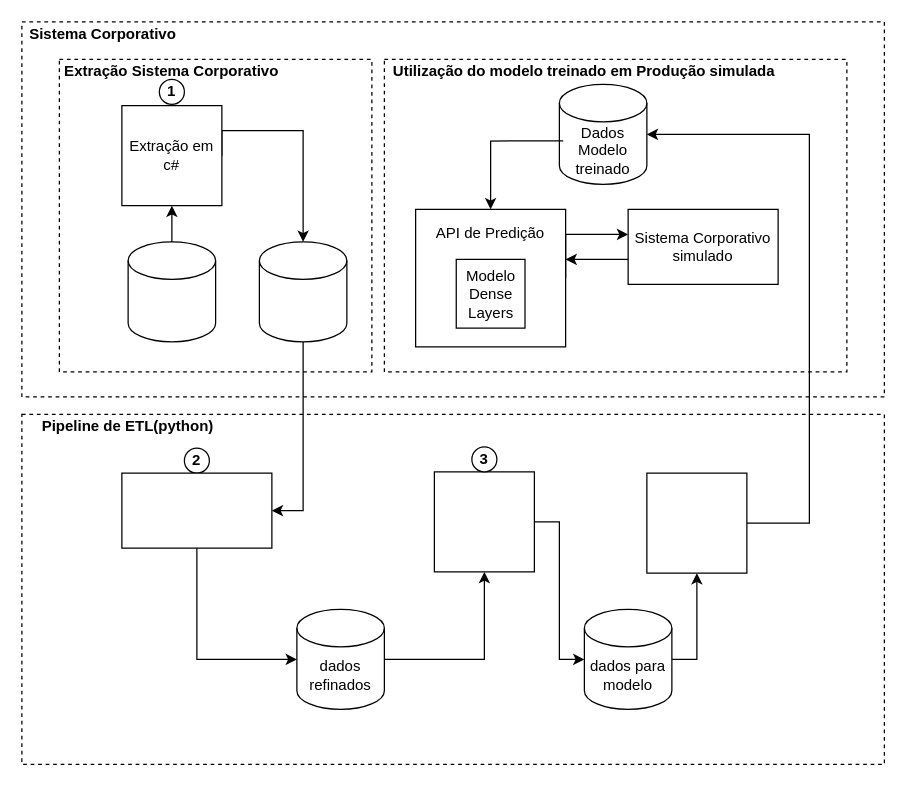
Some shapes in this 906 by 786 pixel diagram are drawn without their labels. Here are the shapes that lost their labels. From the top down, the box of each, then its label:
(127, 241, 216, 342): SQL
(258, 241, 347, 342): dados brutos
(121, 472, 272, 548): Transformação
(433, 471, 534, 572): carga
(646, 472, 747, 573): Treinamento Modelo Dense
